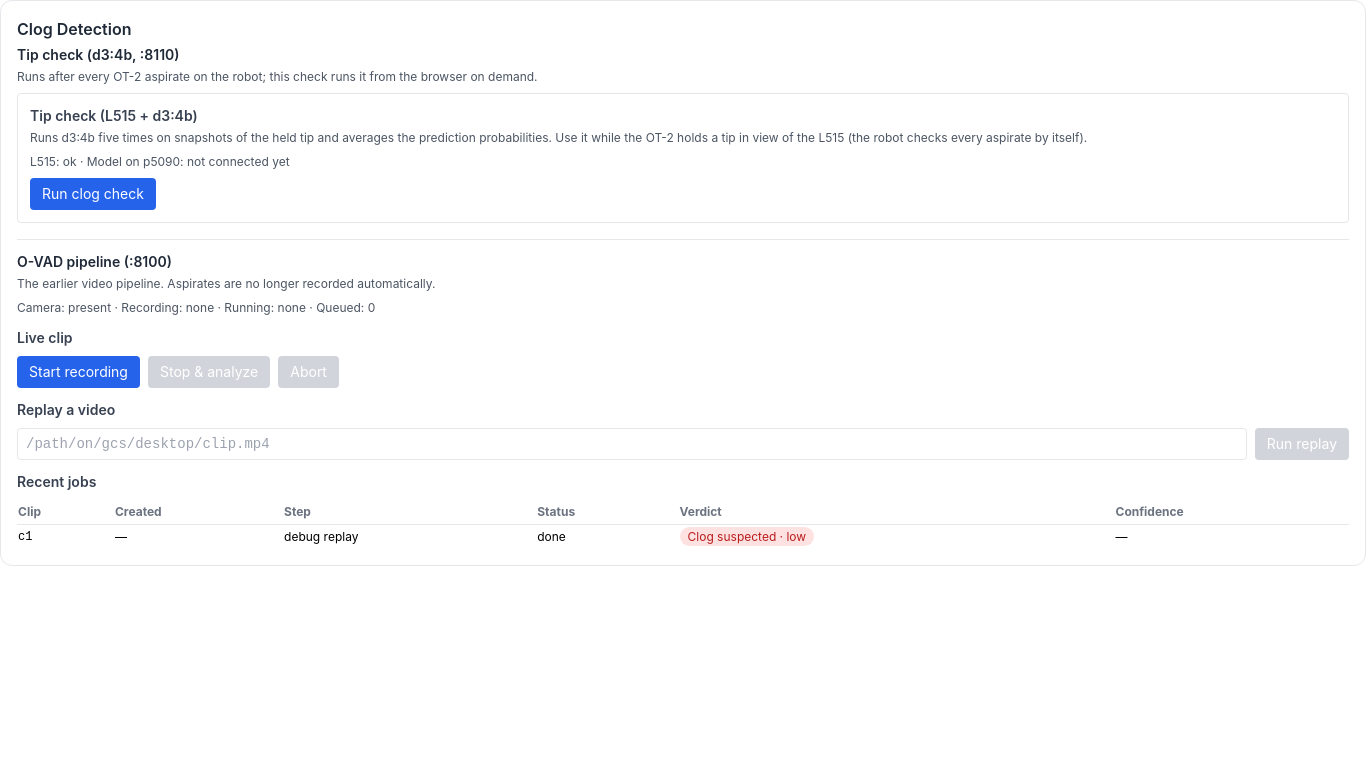
Test: shows service error on start
Expected: the text "Camera: present" is shown, [17,300,375,315]
Step 1. Click the button "Start recording" → [78, 372], box [17,356,140,388]
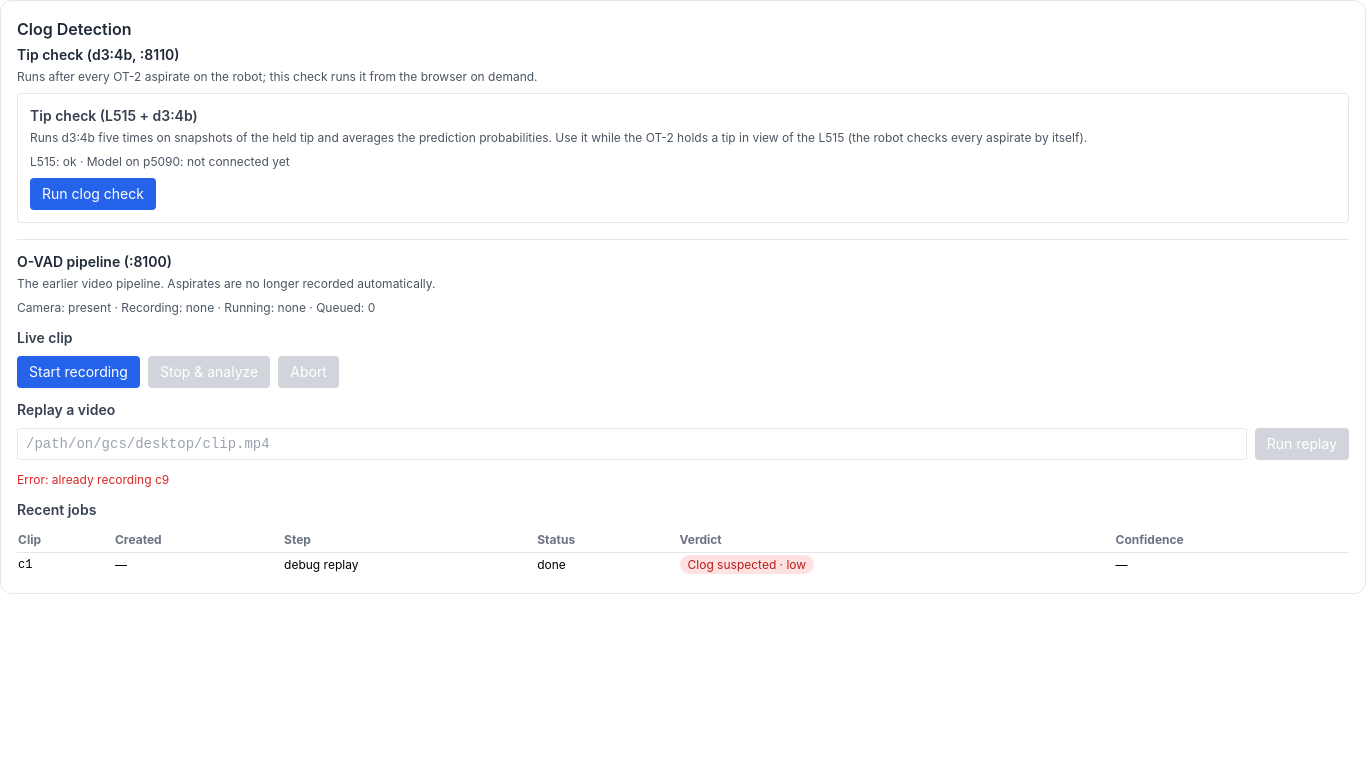
Expected: the text "Error: already recording c9" is shown, [17,472,169,487]
